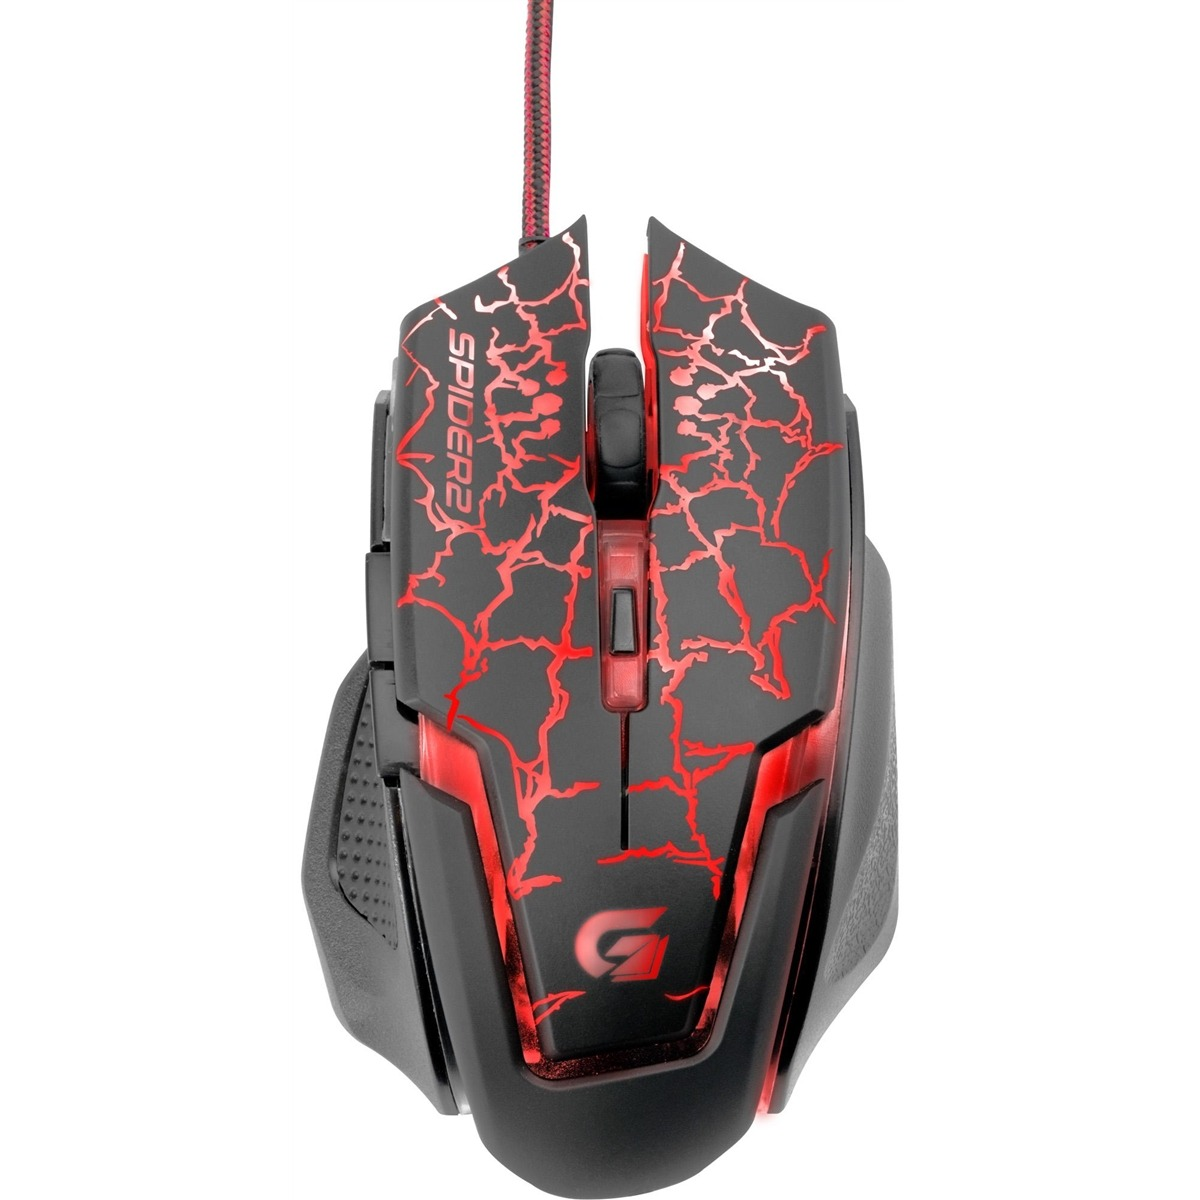mouse: (305, 197, 914, 1200)
